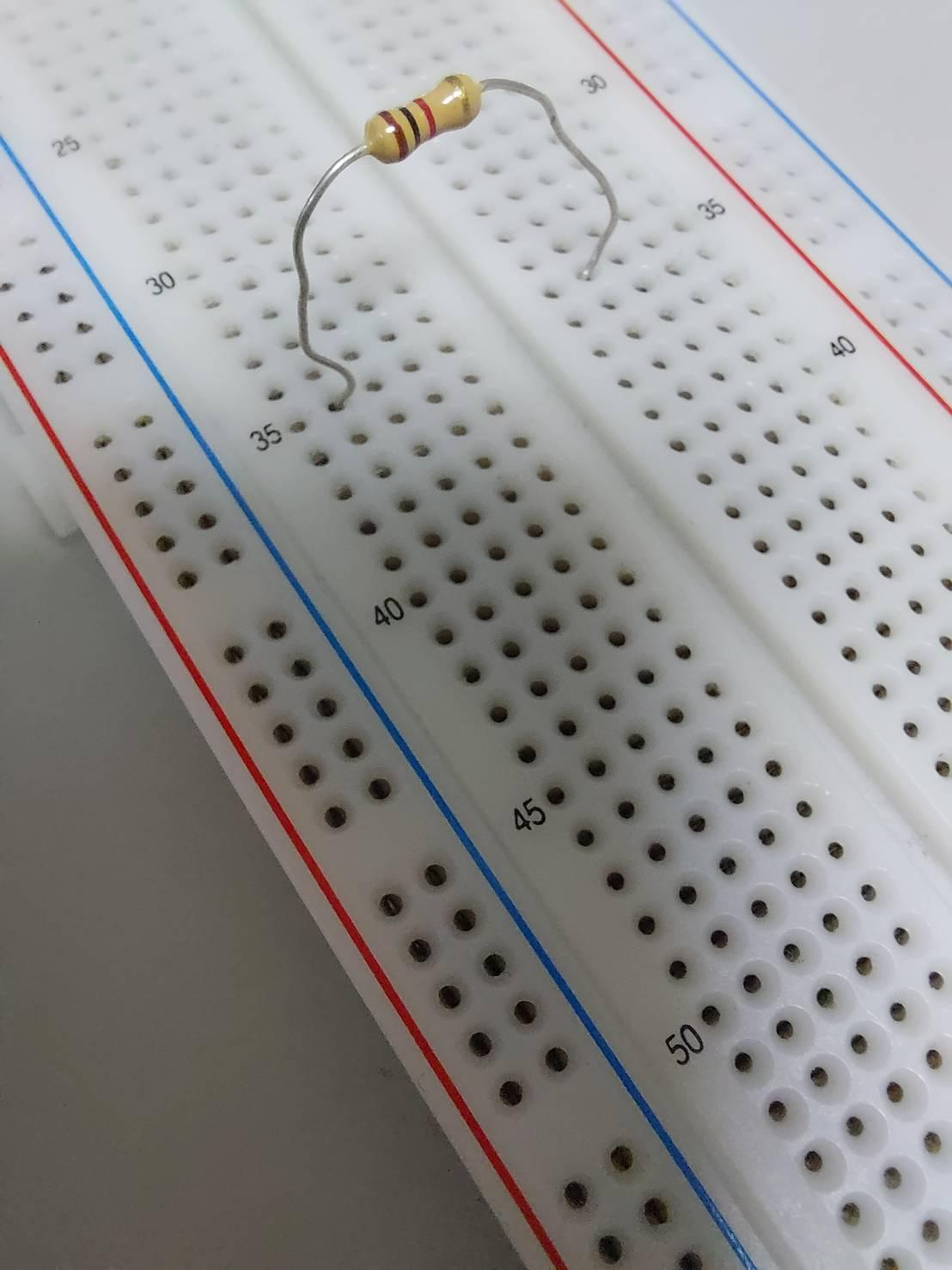resistor: (352, 71, 492, 161)
